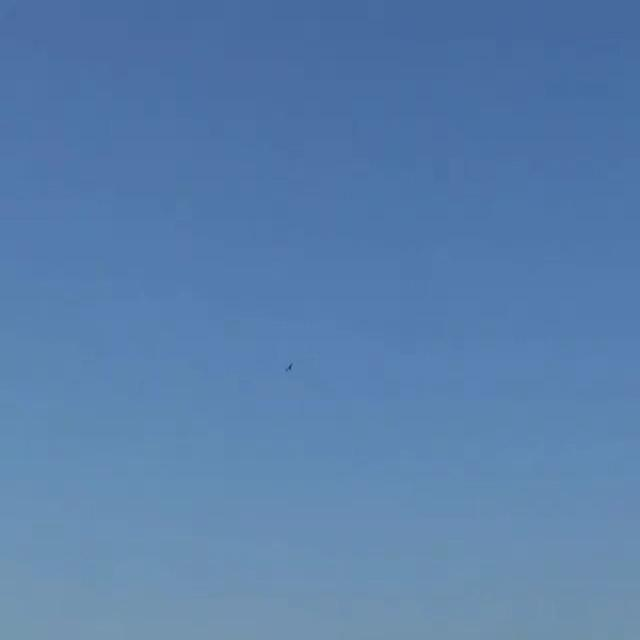bird: (280, 358, 297, 382)
